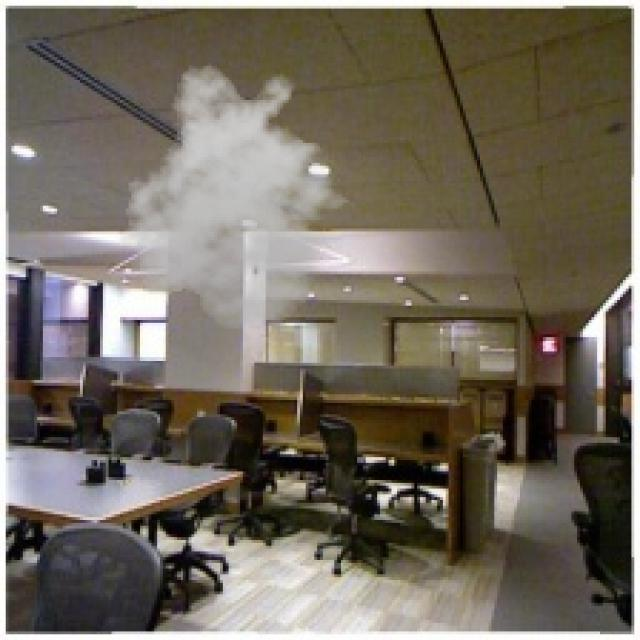Smoke: (111, 62, 360, 332)
